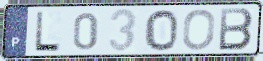0: (72, 11, 102, 51)
3: (108, 7, 141, 54)
B: (217, 7, 255, 52)
L: (33, 10, 63, 53)
O: (181, 8, 217, 52), (144, 8, 179, 52)
